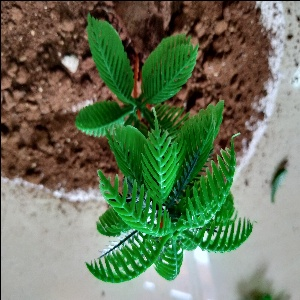plant: (78, 13, 247, 290)
